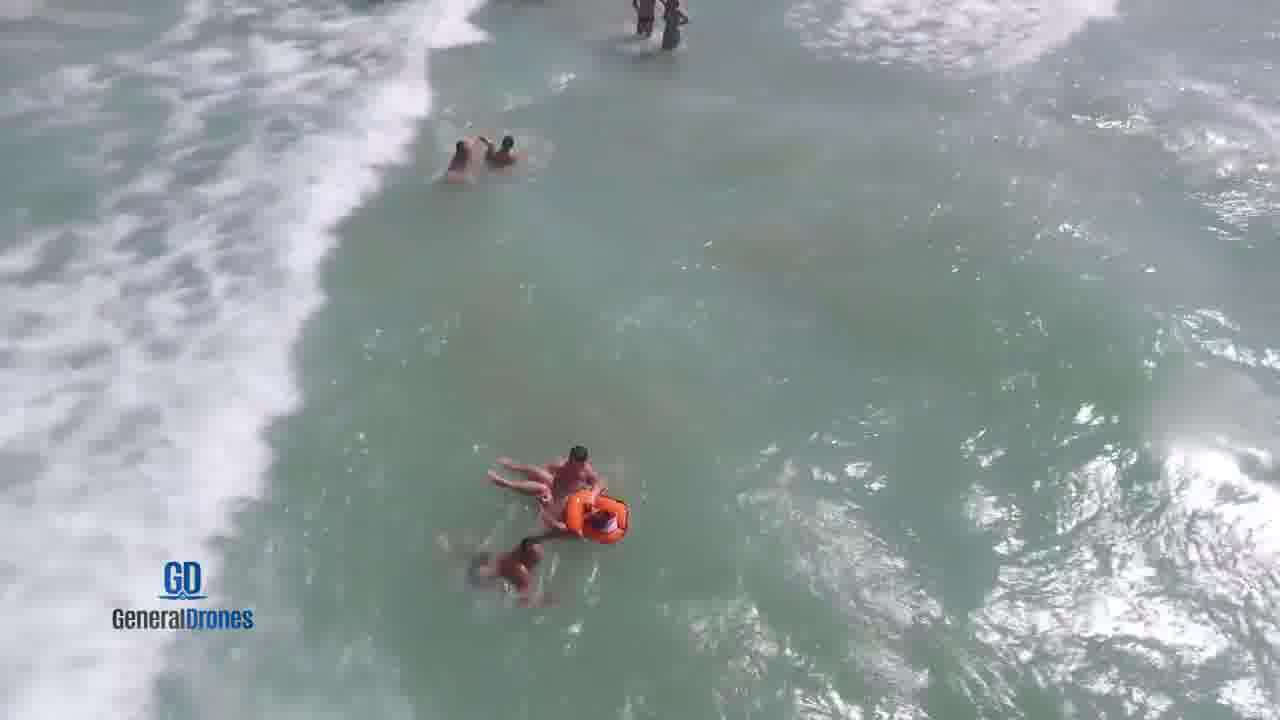human: (483, 445, 632, 535), (465, 523, 554, 597), (544, 438, 612, 491), (466, 119, 533, 170), (428, 133, 484, 184)
